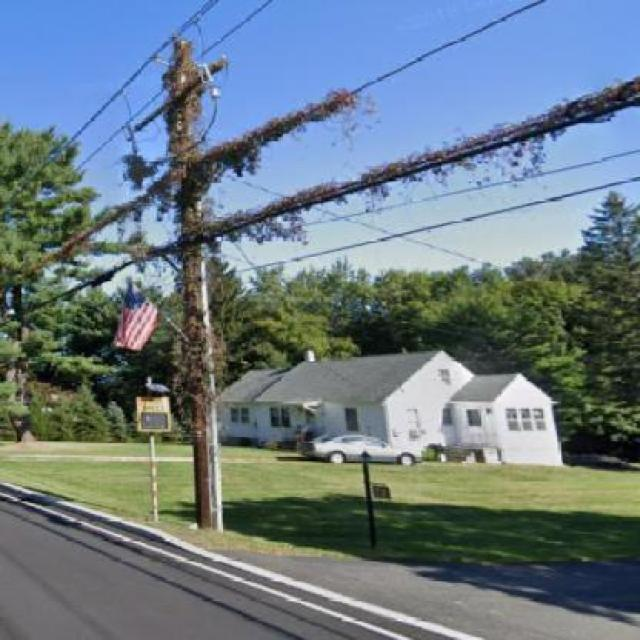pole: (82, 19, 356, 552)
